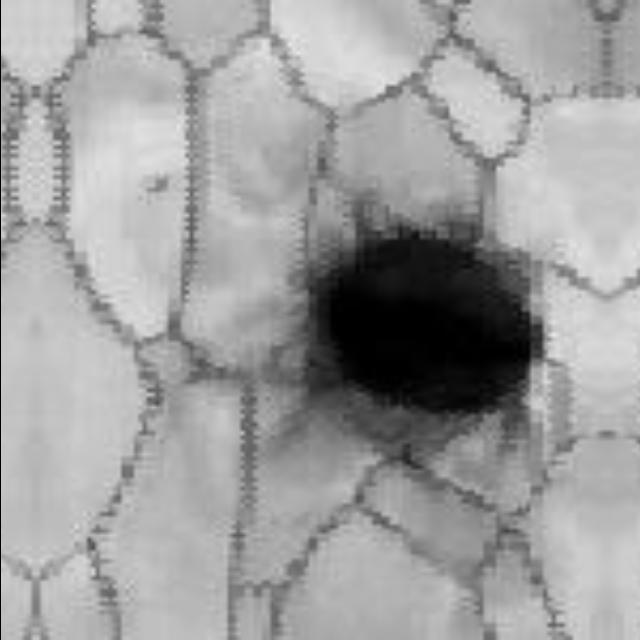good_void: (260, 201, 544, 474), (137, 172, 170, 206)
